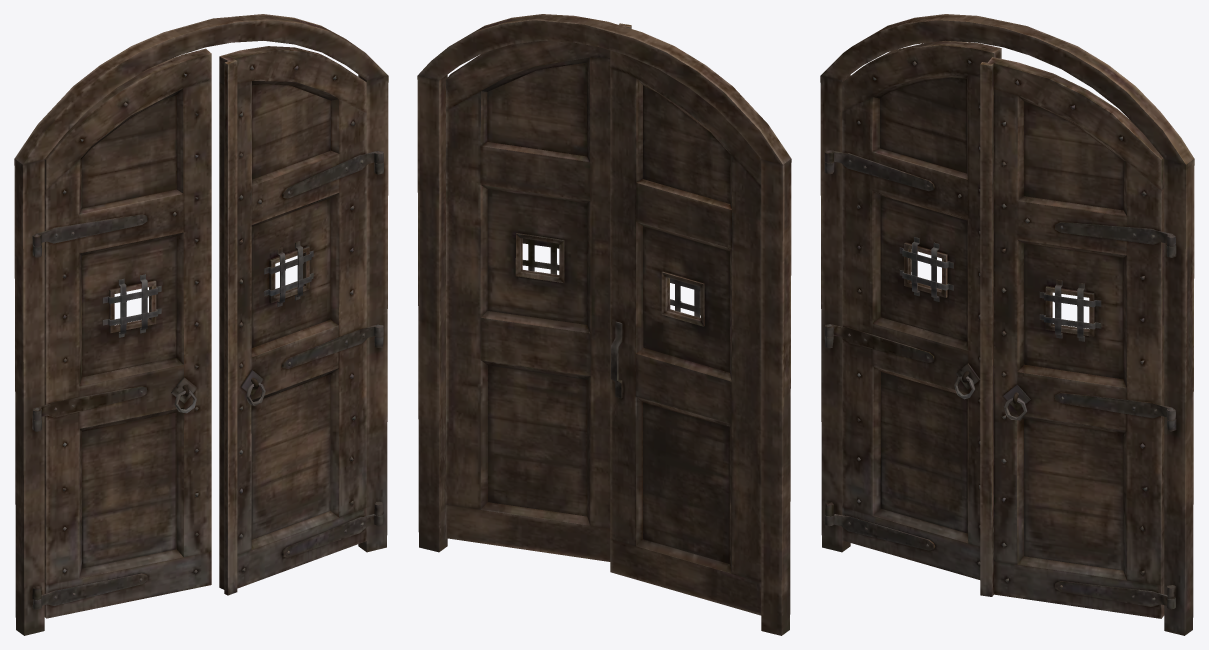
File: large_castle_door.glb
The picture shows the model from 3 angles, left to right: view 1: azimuth 30°, elevation 25°; view 2: azimuth 150°, elevation 25°; view 3: azimuth 330°, elevation 25°; orthographic projection.
Parts seen in each view (by area): view 1: large_castle_door_frame; view 2: large_castle_door_frame; view 3: large_castle_door_frame.
Boxes of the visible parts, box(x1,y1,x2,y2) form: large_castle_door_frame: box(14, 14, 388, 635); large_castle_door_frame: box(417, 14, 791, 635); large_castle_door_frame: box(820, 14, 1194, 635).
Size of the model in its own units: 2.01 by 2.96 by 0.2963.
Materials: 1 (1 with a texture image).
